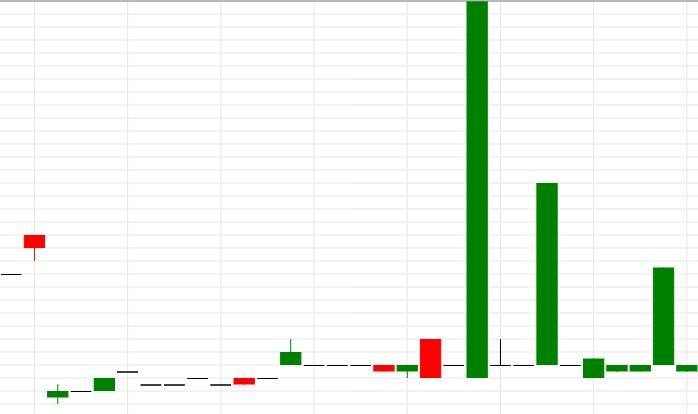morning_star_rise: (279, 0, 489, 379)
